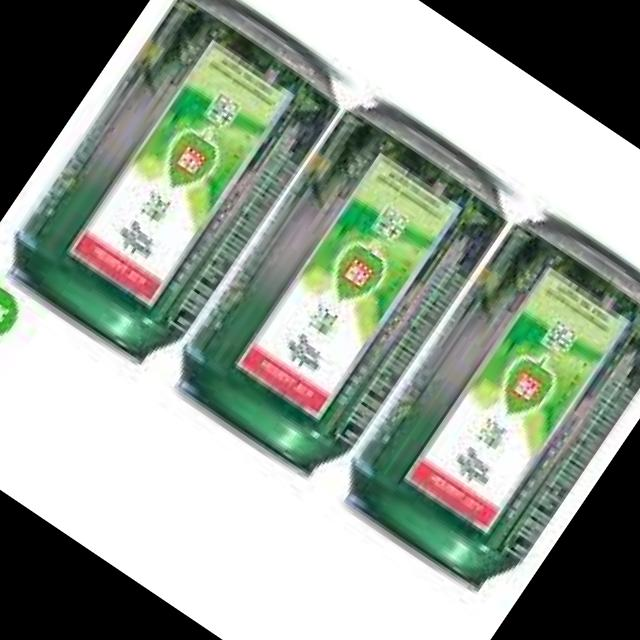ademsarikaleng: (154, 83, 526, 498), (0, 0, 357, 385), (322, 199, 640, 611)
